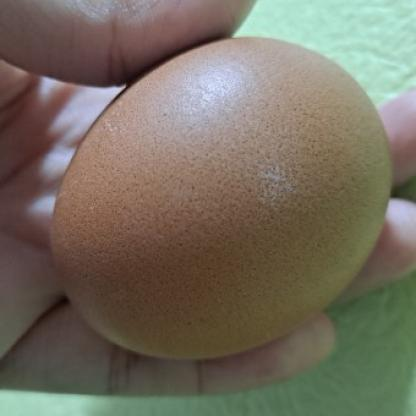egg: (49, 38, 396, 354)
